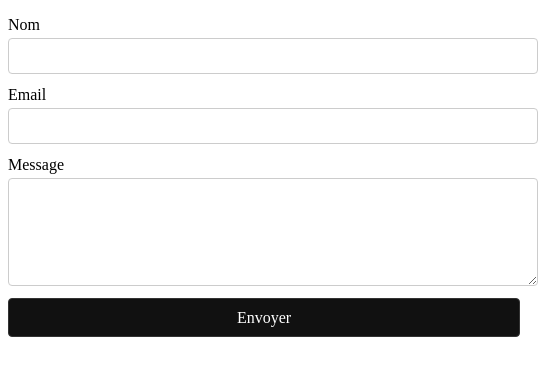
Test: envoie les valeurs saisies et affiche le message de succès
The width and height of the screenshot is (555, 384).
Step 1. Type "Wrida" into the field labelled "Nom" → (273, 56), box [8, 38, 538, 74]
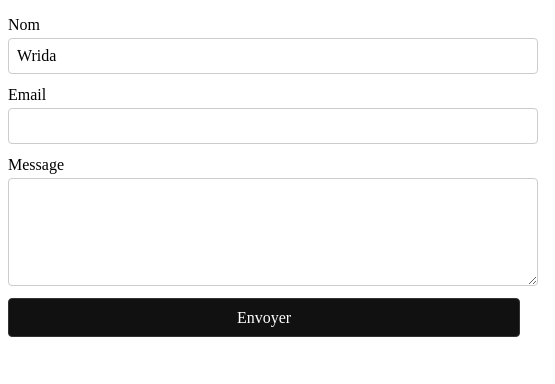
Step 2. Type "wrida@example.com" into the field labelled "Email" → (273, 126), box [8, 108, 538, 144]
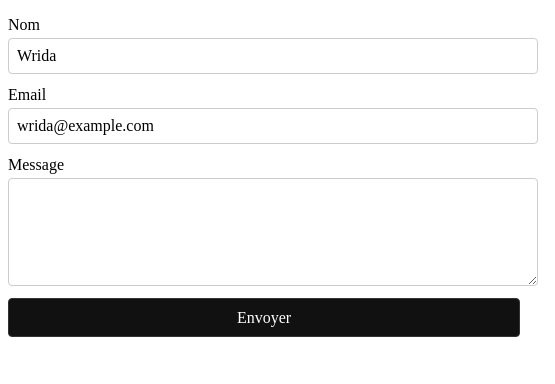
Step 3. Type "Un message de test suffisamment long." into the text box labelled "Message" → (273, 232), box [8, 178, 538, 286]
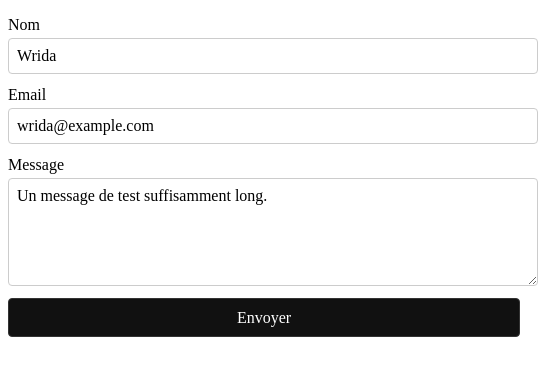
Step 4. Submit the form "Envoyer"
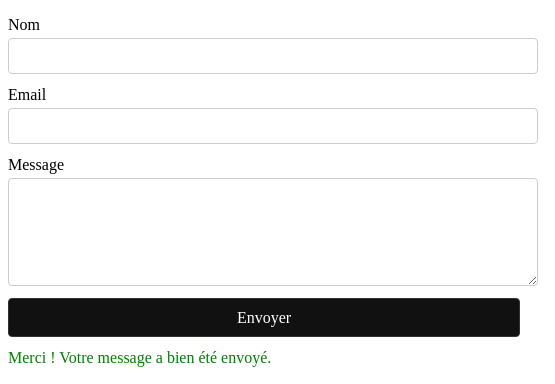
Check: the text "Merci ! Votre message a bien été envoyé." is shown, box [8, 349, 271, 366]
